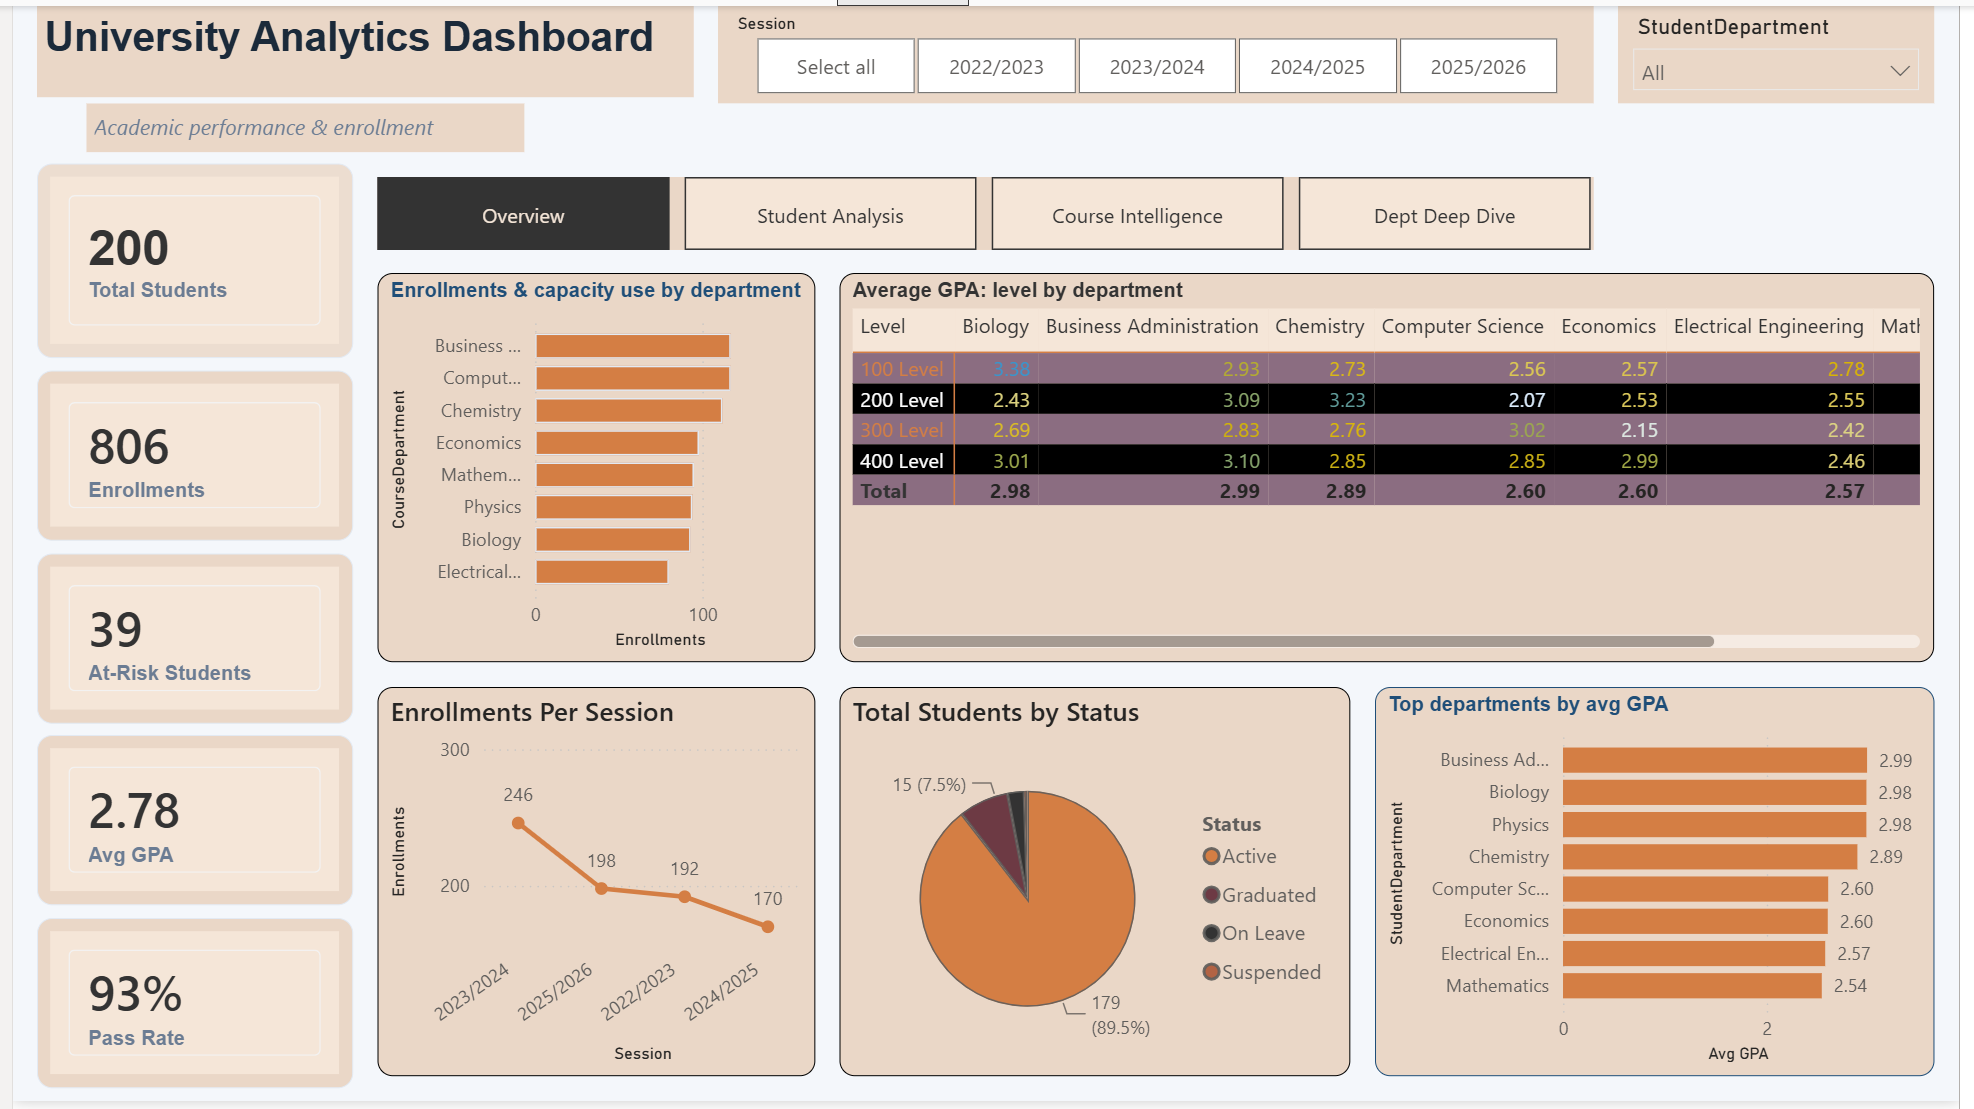

This screenshot's page, from the dashboard's own definition file:
{"tool":"powerbi","page":{"name":"Overview","canvas":[1280,720],"ordinal":0},"visuals":[{"type":"textbox","box":[16,0,432,60],"z":0},{"type":"textbox","box":[48,64,288,32],"z":1000},{"type":"slicer","fields":{"Values":["University_Data.Session"]},"box":[464,0,576,64],"z":2000},{"type":"cardVisual","fields":{"Data":["University_Data.Enrollments"]},"box":[16,240,208,112],"z":3000},{"type":"cardVisual","fields":{"Data":["University_Data.Pass Rate"]},"box":[16,600,208,112],"z":4000},{"type":"cardVisual","fields":{"Data":["University_Data.Total Students"]},"box":[16,104,208,128],"z":5000},{"type":"cardVisual","fields":{"Data":["University_Data.Avg GPA"]},"box":[16,480,208,112],"z":6000},{"type":"cardVisual","fields":{"Data":["University_Data.At-Risk Students"]},"box":[16,360,208,112],"z":7000},{"type":"clusteredBarChart","title":"Enrollments & capacity use by department","fields":{"Category":["University_Data.CourseDepartment"],"Y":["University_Data.Enrollments"]},"box":[240,176,288,256],"z":8000},{"type":"pivotTable","title":"Average GPA: level by department","fields":{"Rows":["University_Data.Level"],"Columns":["University_Data.StudentDepartment"],"Values":["University_Data.Avg GPA"]},"box":[552,176,712,256],"z":9000},{"type":"lineChart","title":"Enrollments Per Session","fields":{"Y":["University_Data.Enrollments"],"Category":["University_Data.Session"]},"box":[240,448,288,256],"z":10000},{"type":"pieChart","fields":{"Category":["University_Data.Status"],"Y":["University_Data.Total Students"]},"box":[552,448,304,256],"z":11000},{"type":"clusteredBarChart","title":"Top departments by avg GPA","fields":{"Category":["University_Data.StudentDepartment"],"Y":["University_Data.Avg GPA"]},"box":[872,448,392,256],"z":12000},{"type":"pageNavigator","box":[240,112,800,48],"z":13000},{"type":"slicer","fields":{"Values":["University_Data.StudentDepartment"]},"box":[1056,0,208,64],"z":14000}]}

Visuals, with their boxes in screenshot pixels (x1, y1, x2, y2), scaled from the page's 1280x720 canvas onto the 1974x1109 screenshot:
textbox: (x1=25, y1=0, x2=691, y2=92)
textbox: (x1=74, y1=99, x2=518, y2=148)
slicer - University_Data.Session: (x1=716, y1=0, x2=1604, y2=99)
cardVisual - University_Data.Enrollments: (x1=25, y1=370, x2=345, y2=542)
cardVisual - University_Data.Pass Rate: (x1=25, y1=924, x2=345, y2=1097)
cardVisual - University_Data.Total Students: (x1=25, y1=160, x2=345, y2=357)
cardVisual - University_Data.Avg GPA: (x1=25, y1=739, x2=345, y2=912)
cardVisual - University_Data.At-Risk Students: (x1=25, y1=554, x2=345, y2=727)
"Enrollments & capacity use by department" clusteredBarChart: (x1=370, y1=271, x2=814, y2=665)
"Average GPA: level by department" pivotTable: (x1=851, y1=271, x2=1949, y2=665)
"Enrollments Per Session" lineChart: (x1=370, y1=690, x2=814, y2=1084)
pieChart - University_Data.Status x University_Data.Total Students: (x1=851, y1=690, x2=1320, y2=1084)
"Top departments by avg GPA" clusteredBarChart: (x1=1345, y1=690, x2=1949, y2=1084)
pageNavigator: (x1=370, y1=173, x2=1604, y2=246)
slicer - University_Data.StudentDepartment: (x1=1629, y1=0, x2=1949, y2=99)
